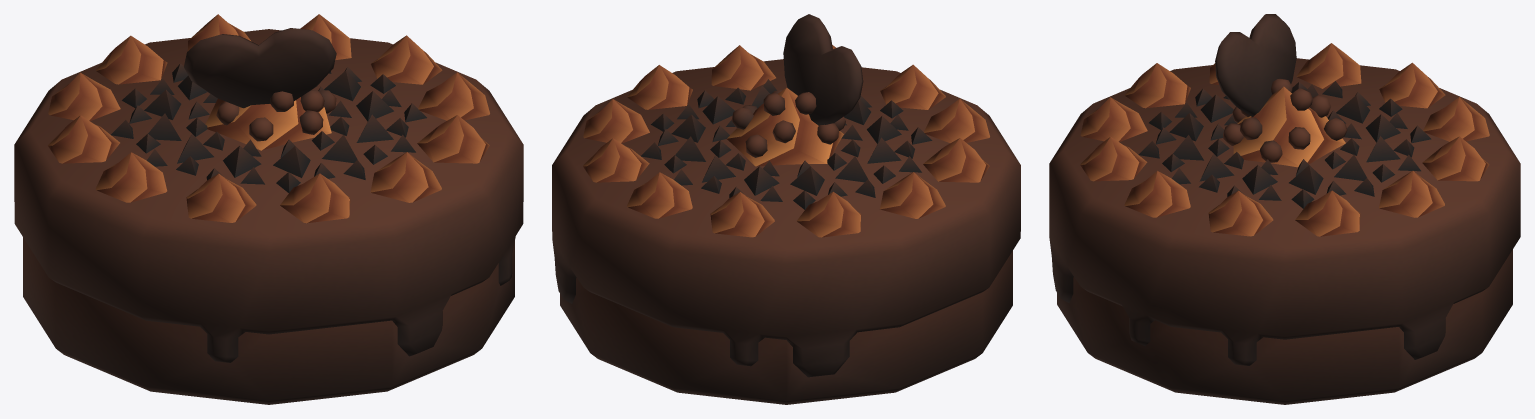
The model's file is m_ChocolateCake01.fbx.
3 views of the same model, side by side, from view 1: azimuth 30°, elevation 25°; view 2: azimuth 150°, elevation 25°; view 3: azimuth 270°, elevation 25° (orthographic). The views are drawn at different scales.
Visible parts, largest first — view 1: m_ChocolateCake01; view 2: m_ChocolateCake01; view 3: m_ChocolateCake01.
Part boxes in pixels (<box>): m_ChocolateCake01: <box>14,14,523,404</box>; m_ChocolateCake01: <box>552,14,1020,404</box>; m_ChocolateCake01: <box>1049,14,1520,404</box>.
Size of the model in its own units: 28.97 by 18.81 by 28.97.
